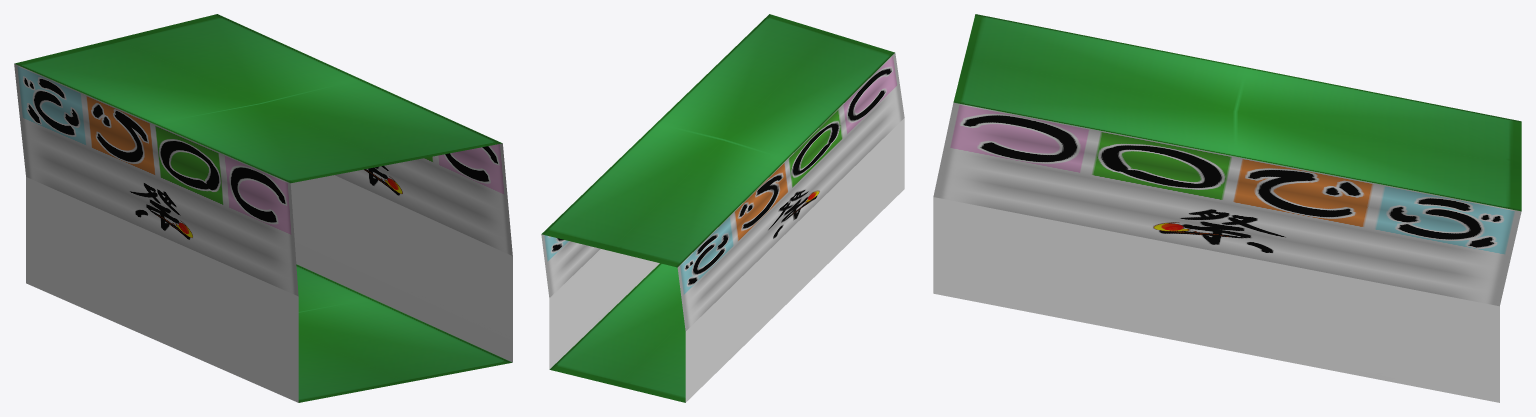
3 renders of one model, left to right at view 1: azimuth 30°, elevation 25°; view 2: azimuth 150°, elevation 25°; view 3: azimuth 270°, elevation 25°, orthographic. The views are drawn at different scales.
Parts seen in each view (by area): view 1: polySurface104; view 2: polySurface104; view 3: polySurface104.
Boxes of the visible parts, x1,y1,x2,y2 form: polySurface104: (14,14,512,402); polySurface104: (541,14,904,402); polySurface104: (933,14,1521,402).
Bounding box in the file's own units: 2.27 × 2.98 × 5.52.
